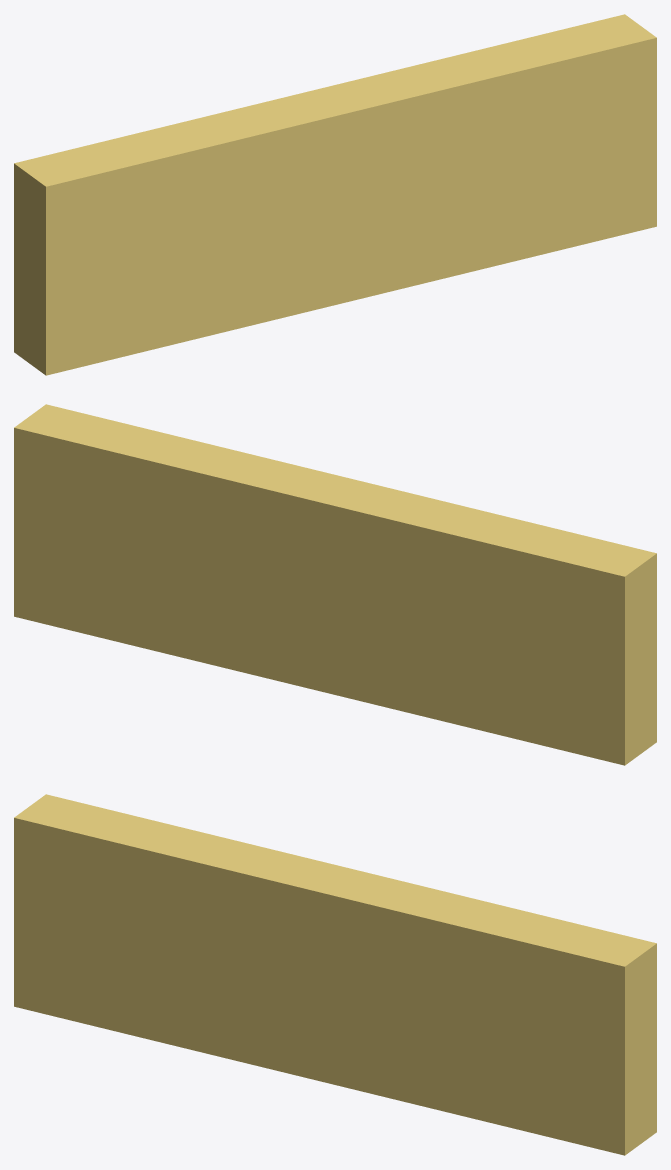
Rendered from buckle_10.glb.
3 renders of one model, top to bottom at view 1: azimuth 30°, elevation 25°; view 2: azimuth 150°, elevation 25°; view 3: azimuth 330°, elevation 25°, orthographic.
Parts seen in each view (by area): view 1: BuckleExport; view 2: BuckleExport; view 3: BuckleExport.
Part boxes in pixels (left/top/right/bottom): BuckleExport: left=14, top=14, right=656, bottom=375; BuckleExport: left=14, top=404, right=656, bottom=765; BuckleExport: left=14, top=794, right=656, bottom=1155.
Bounding box in the file's own units: 0.044 × 0.013 × 0.004.
